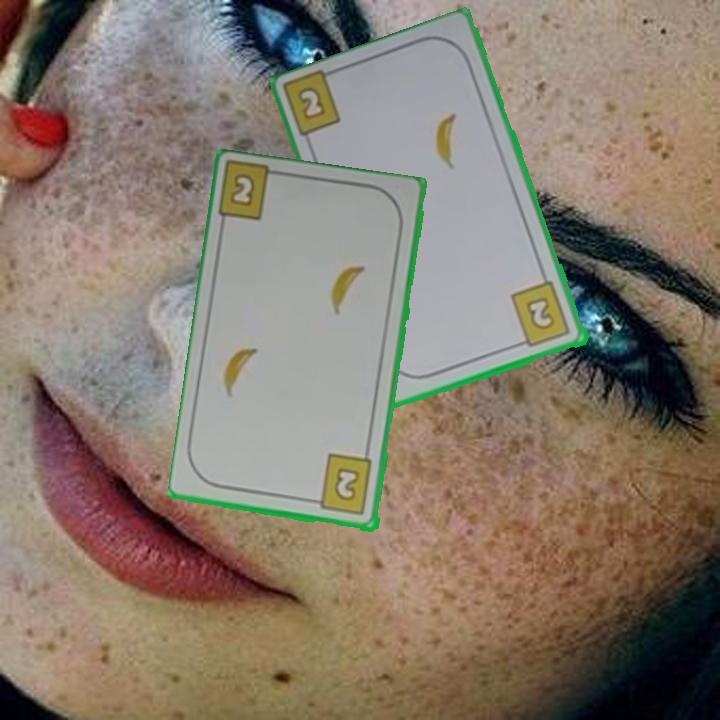2b: (507, 278, 574, 351), (308, 452, 376, 518), (294, 83, 329, 124), (227, 170, 259, 210)
